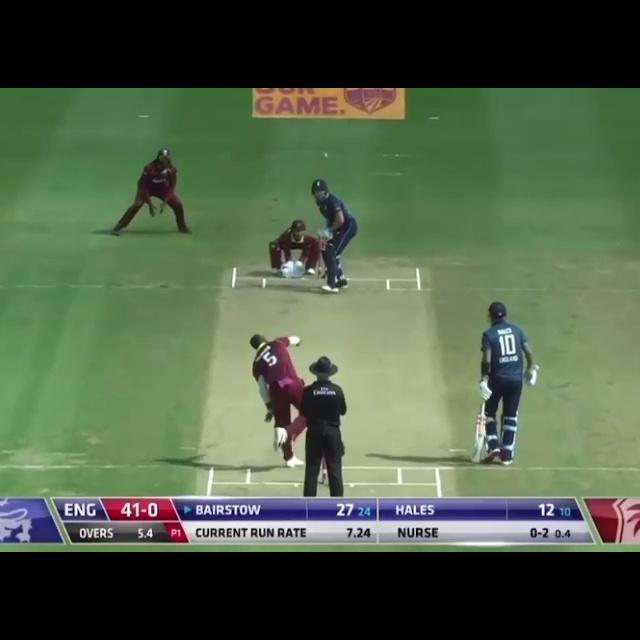umpire: (285, 349, 358, 504)
